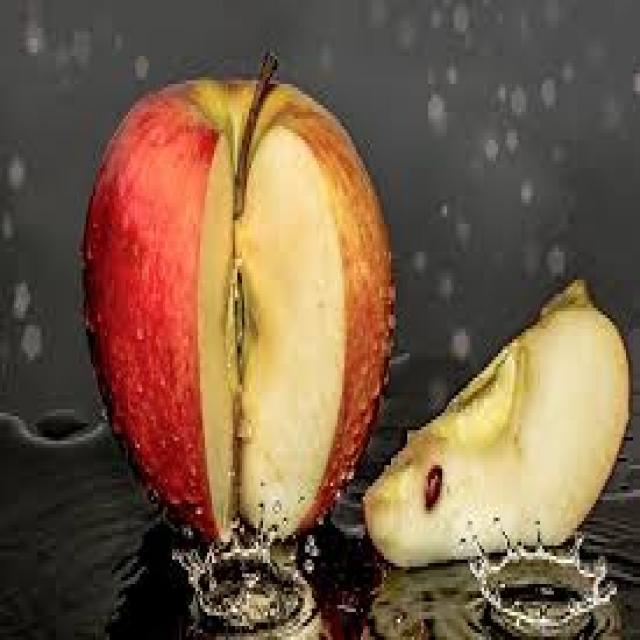Apple: (81, 48, 396, 545), (361, 284, 632, 571)
